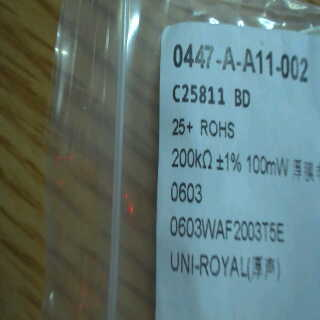200kR: (168, 144, 215, 172)
